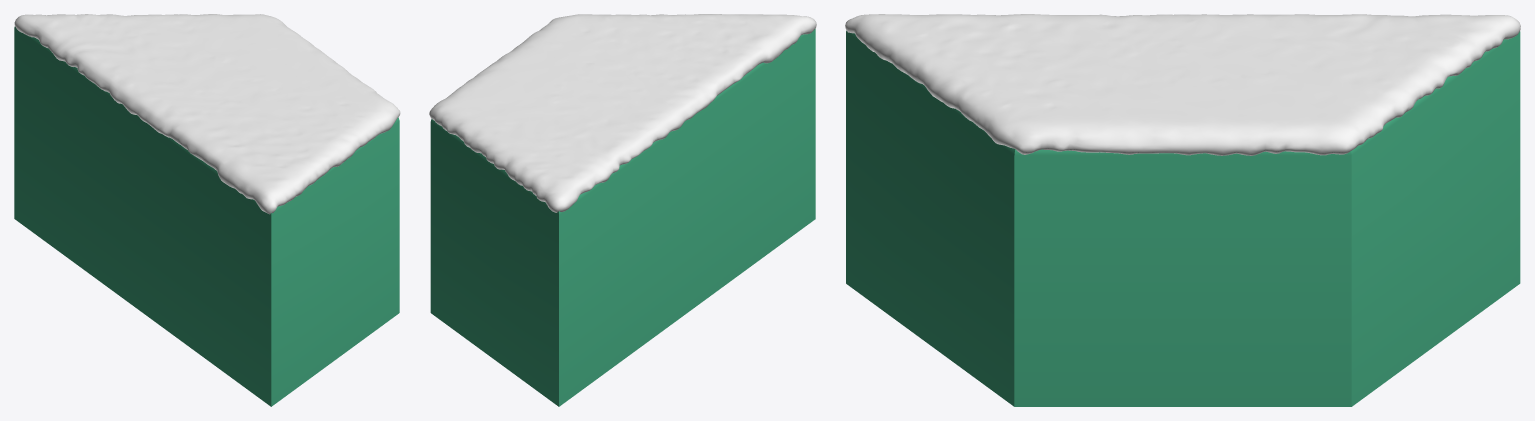
Rendered from hex_forest_waterB_empty.fbx.
3 views of the same model, side by side, from view 1: azimuth 30°, elevation 25°; view 2: azimuth 150°, elevation 25°; view 3: azimuth 270°, elevation 25° (orthographic). The views are drawn at different scales.
Parts seen in each view (by area): view 1: hex_forest_waterB_empty, SnowBall.001; view 2: hex_forest_waterB_empty, SnowBall.001; view 3: hex_forest_waterB_empty, SnowBall.001.
Boxes of the visible parts, x1,y1,x2,y2 form: hex_forest_waterB_empty: (14,26,399,406); SnowBall.001: (14,14,400,214); hex_forest_waterB_empty: (430,29,815,406); SnowBall.001: (429,14,816,212); hex_forest_waterB_empty: (846,30,1520,406); SnowBall.001: (845,14,1520,155).
Size of the model in its own units: 104 by 104 by 231.
